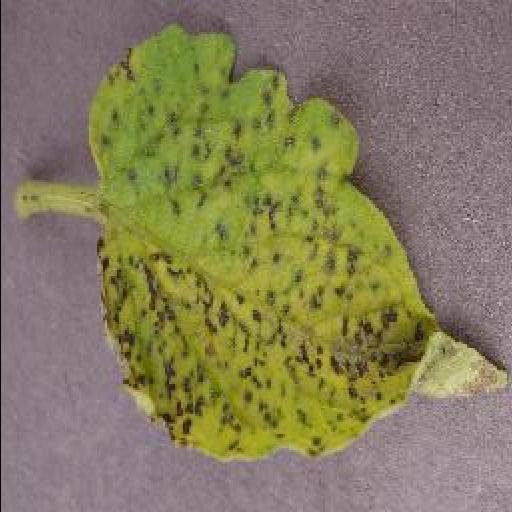disease_tomato: (85, 26, 503, 460)
